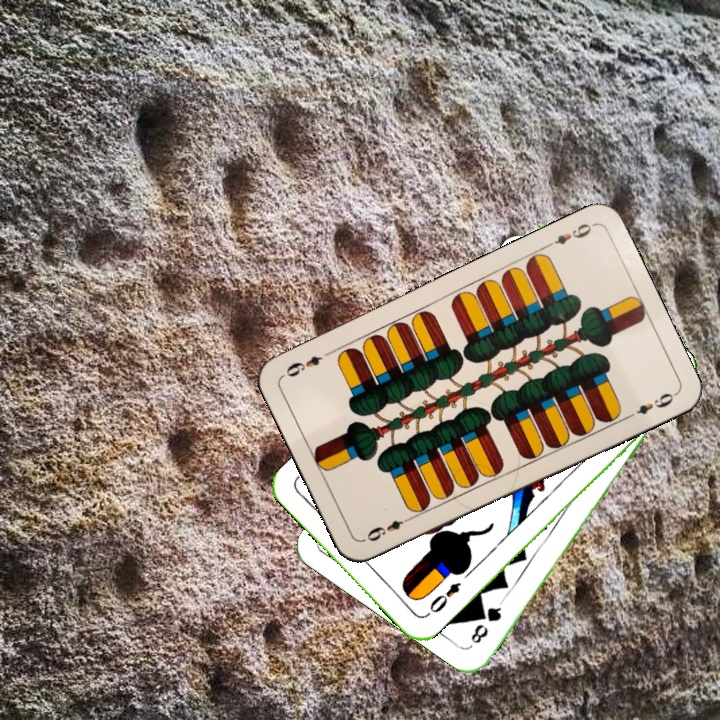E9: (541, 219, 597, 251), (360, 513, 416, 544)
EO: (425, 578, 464, 616)
G8: (466, 597, 506, 647)
